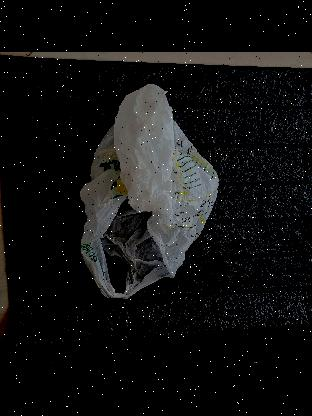Others: (78, 84, 218, 300)
